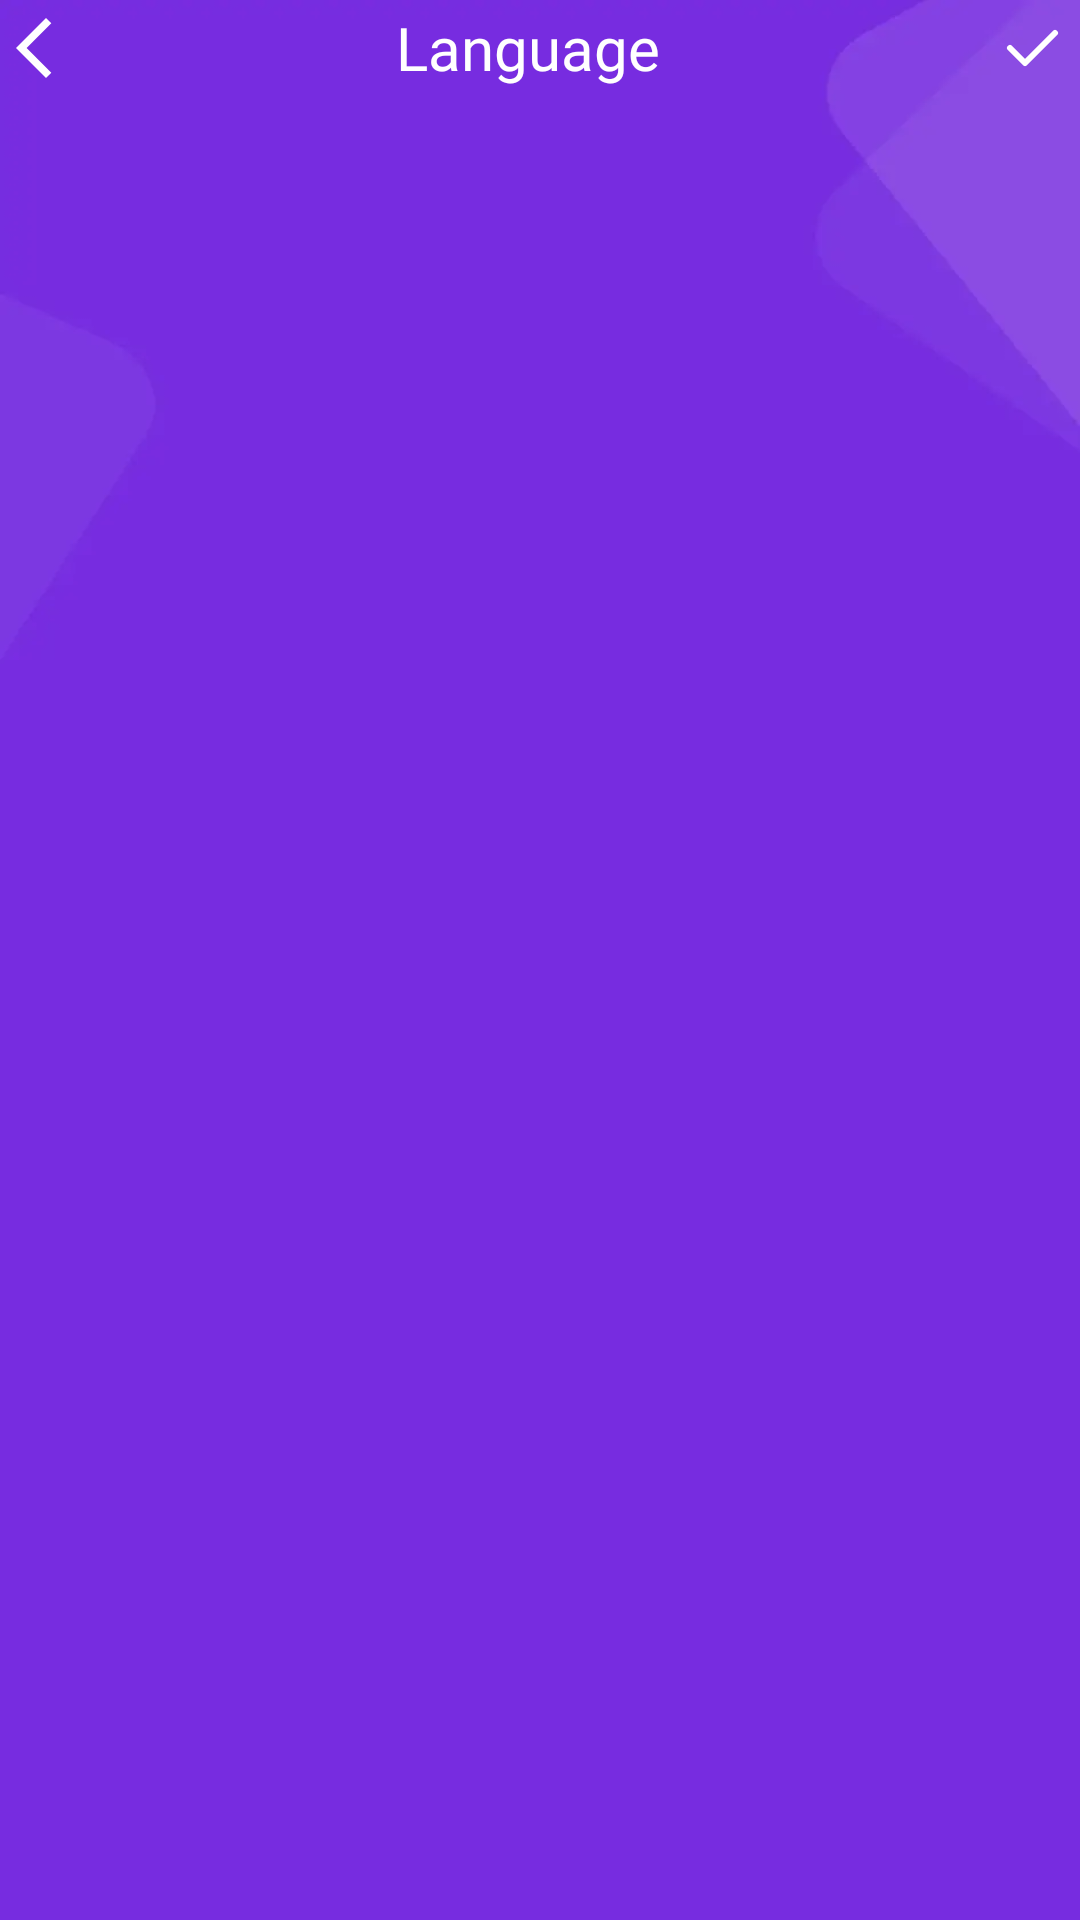

Icon click points for this 1080w x 1920h phone screenshot, format point (x, y):
back: point (33, 48)
check: point (1032, 48)
